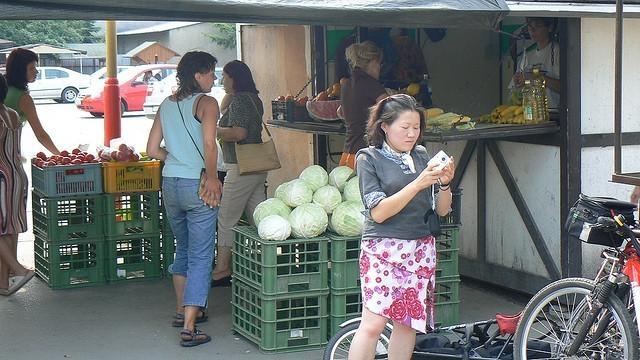bicycle: (514, 212, 640, 356), (414, 309, 520, 360), (328, 320, 394, 355)
car: (74, 63, 178, 118), (144, 68, 226, 120), (26, 66, 91, 103), (90, 66, 136, 86)
